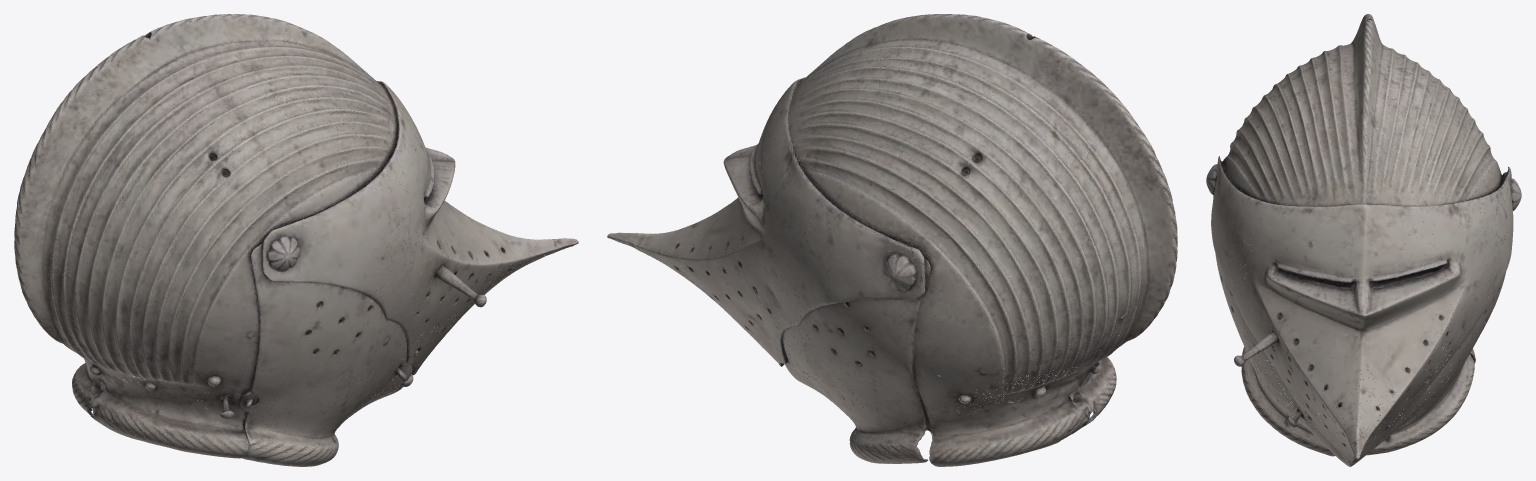
Rendered from helmet-transformed.glb.
The picture shows the model from 3 angles, left to right: view 1: azimuth 30°, elevation 25°; view 2: azimuth 150°, elevation 25°; view 3: azimuth 270°, elevation 25°; orthographic projection. The views are drawn at different scales.
Visible parts, largest first — view 1: Object_5, Object_6, Object_11, Object_2, Object_10, Object_9, Object_4, Object_8, Object_7, Object_12, Object_3; view 2: Object_3, Object_8, Object_7, Object_6, Object_4, Object_10, Object_2, Object_9; view 3: Object_2, Object_10, Object_6, Object_3, Object_7, Object_5, Object_11, Object_8, Object_9, Object_4, Object_12.
Boxes of the visible parts, x1,y1,x2,y2 form: Object_5: (14, 123, 428, 444); Object_6: (25, 14, 507, 402); Object_11: (116, 88, 380, 466); Object_2: (54, 84, 577, 401); Object_10: (58, 36, 486, 374); Object_9: (14, 103, 394, 439); Object_4: (33, 94, 395, 435); Object_8: (14, 108, 578, 365); Object_7: (18, 64, 575, 418); Object_12: (102, 336, 400, 466); Object_3: (31, 70, 368, 440); Object_3: (789, 44, 1149, 431); Object_8: (607, 163, 1177, 388); Object_7: (608, 66, 1171, 434); Object_6: (667, 14, 1162, 409); Object_4: (843, 68, 1145, 466); Object_10: (708, 36, 1121, 463); Object_2: (608, 73, 1085, 368); Object_9: (767, 73, 1177, 463); Object_2: (1238, 60, 1475, 465); Object_10: (1227, 96, 1492, 455); Object_6: (1217, 14, 1453, 466); Object_3: (1328, 59, 1513, 308); Object_7: (1281, 94, 1521, 466); Object_5: (1206, 95, 1311, 445); Object_11: (1227, 66, 1327, 453); Object_8: (1292, 92, 1521, 458); Object_9: (1228, 89, 1474, 456); Object_4: (1220, 162, 1487, 374); Object_12: (1241, 347, 1392, 455).
Size of the model in its own units: 0.4845 by 0.3665 by 0.275.
1 material, 1 textured.
